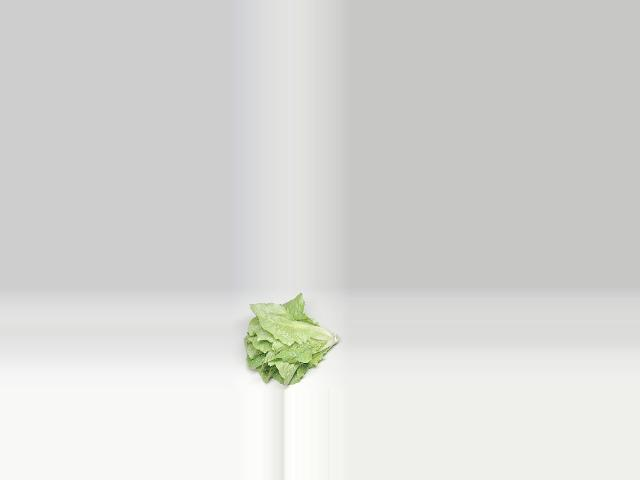lettuce: (243, 293, 341, 386)
